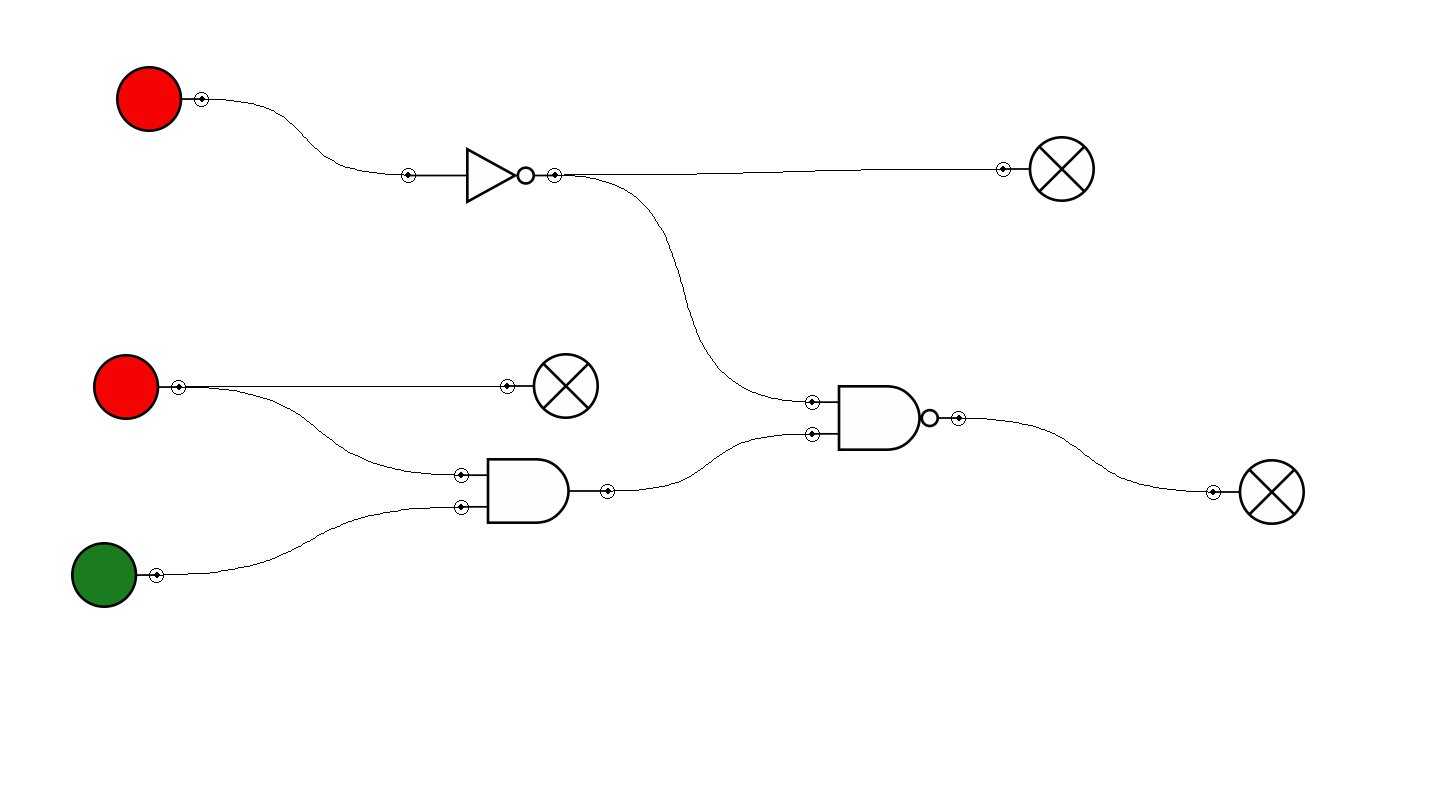and: (454, 458, 615, 524)
bulb: (500, 353, 599, 419), (1206, 459, 1305, 525), (996, 136, 1095, 202)
nand: (805, 385, 966, 451)
not: (401, 147, 562, 204)
switch_False: (93, 354, 186, 420), (116, 66, 209, 132)
switch_True: (71, 542, 164, 608)
